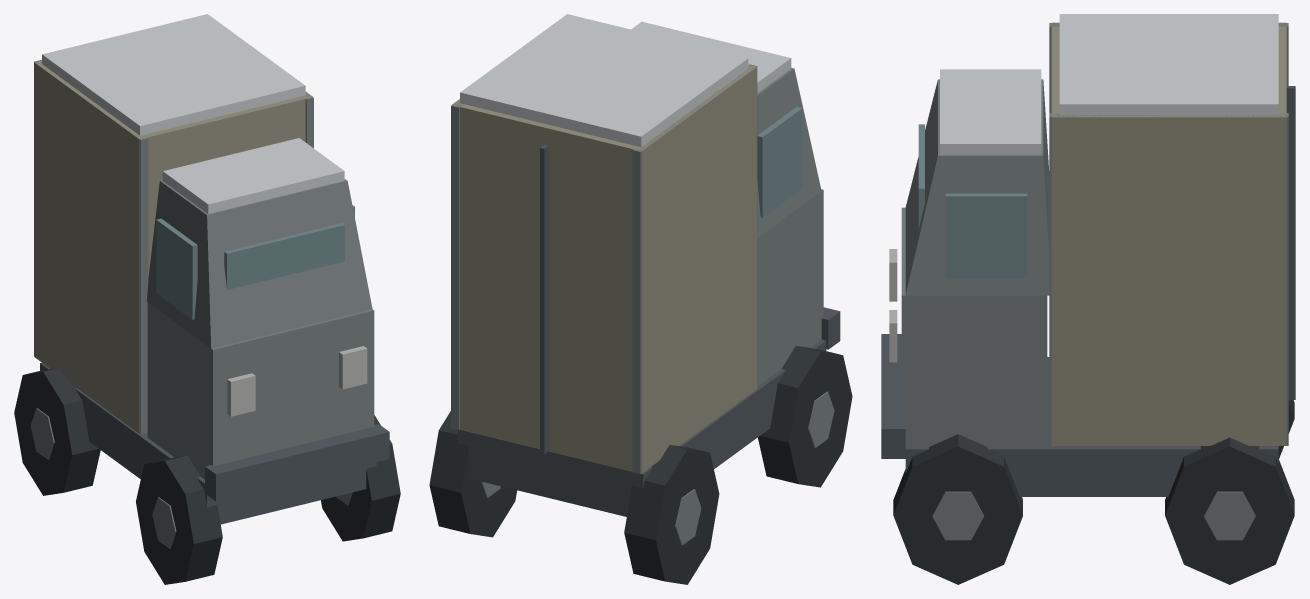
File: box_truck.glb
The picture shows the model from 3 angles, left to right: view 1: azimuth 30°, elevation 25°; view 2: azimuth 150°, elevation 25°; view 3: azimuth 270°, elevation 25°; orthographic projection. The views are drawn at different scales.
Parts seen in each view (by area): view 1: box_truck; view 2: box_truck; view 3: box_truck.
Boxes of the visible parts, x1,y1,x2,y2 form: box_truck: (14,14,400,584); box_truck: (429,14,852,584); box_truck: (881,14,1295,584).
Bounding box in the file's own units: 1.25 × 2.4 × 1.92.
